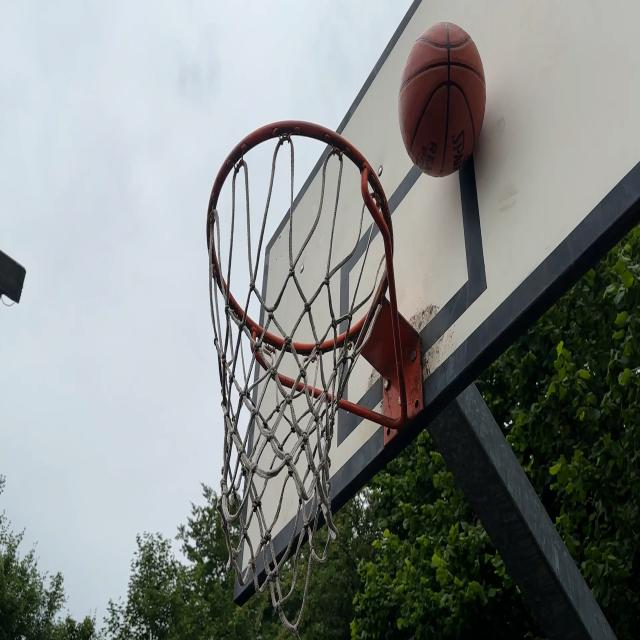rebound_hit: (398, 21, 488, 178)
